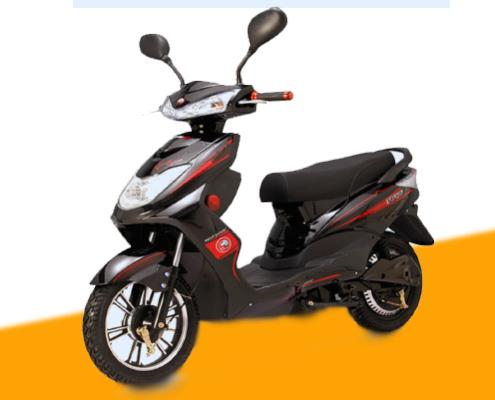motorbike: (81, 7, 435, 385)
